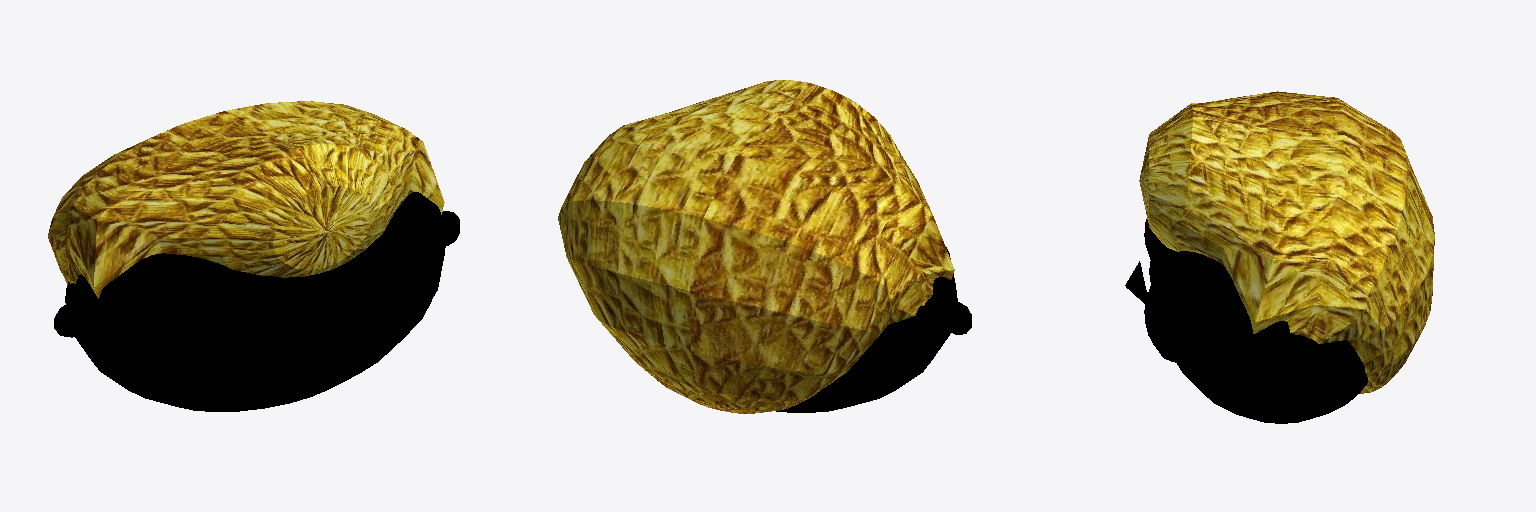
3 views of the same model, side by side, from view 1: azimuth 30°, elevation 25°; view 2: azimuth 150°, elevation 25°; view 3: azimuth 270°, elevation 25° (orthographic).
Parts seen in each view (by area): view 1: cabeza; view 2: cabeza; view 3: cabeza.
Part boxes in pixels (x1,y1,x2,y2): cabeza: (48, 101, 459, 411); cabeza: (558, 80, 971, 413); cabeza: (1125, 91, 1434, 423).
Bounding box in the file's own units: 5.79 × 3.84 × 3.83.
Materials: 3 (1 with a texture image).